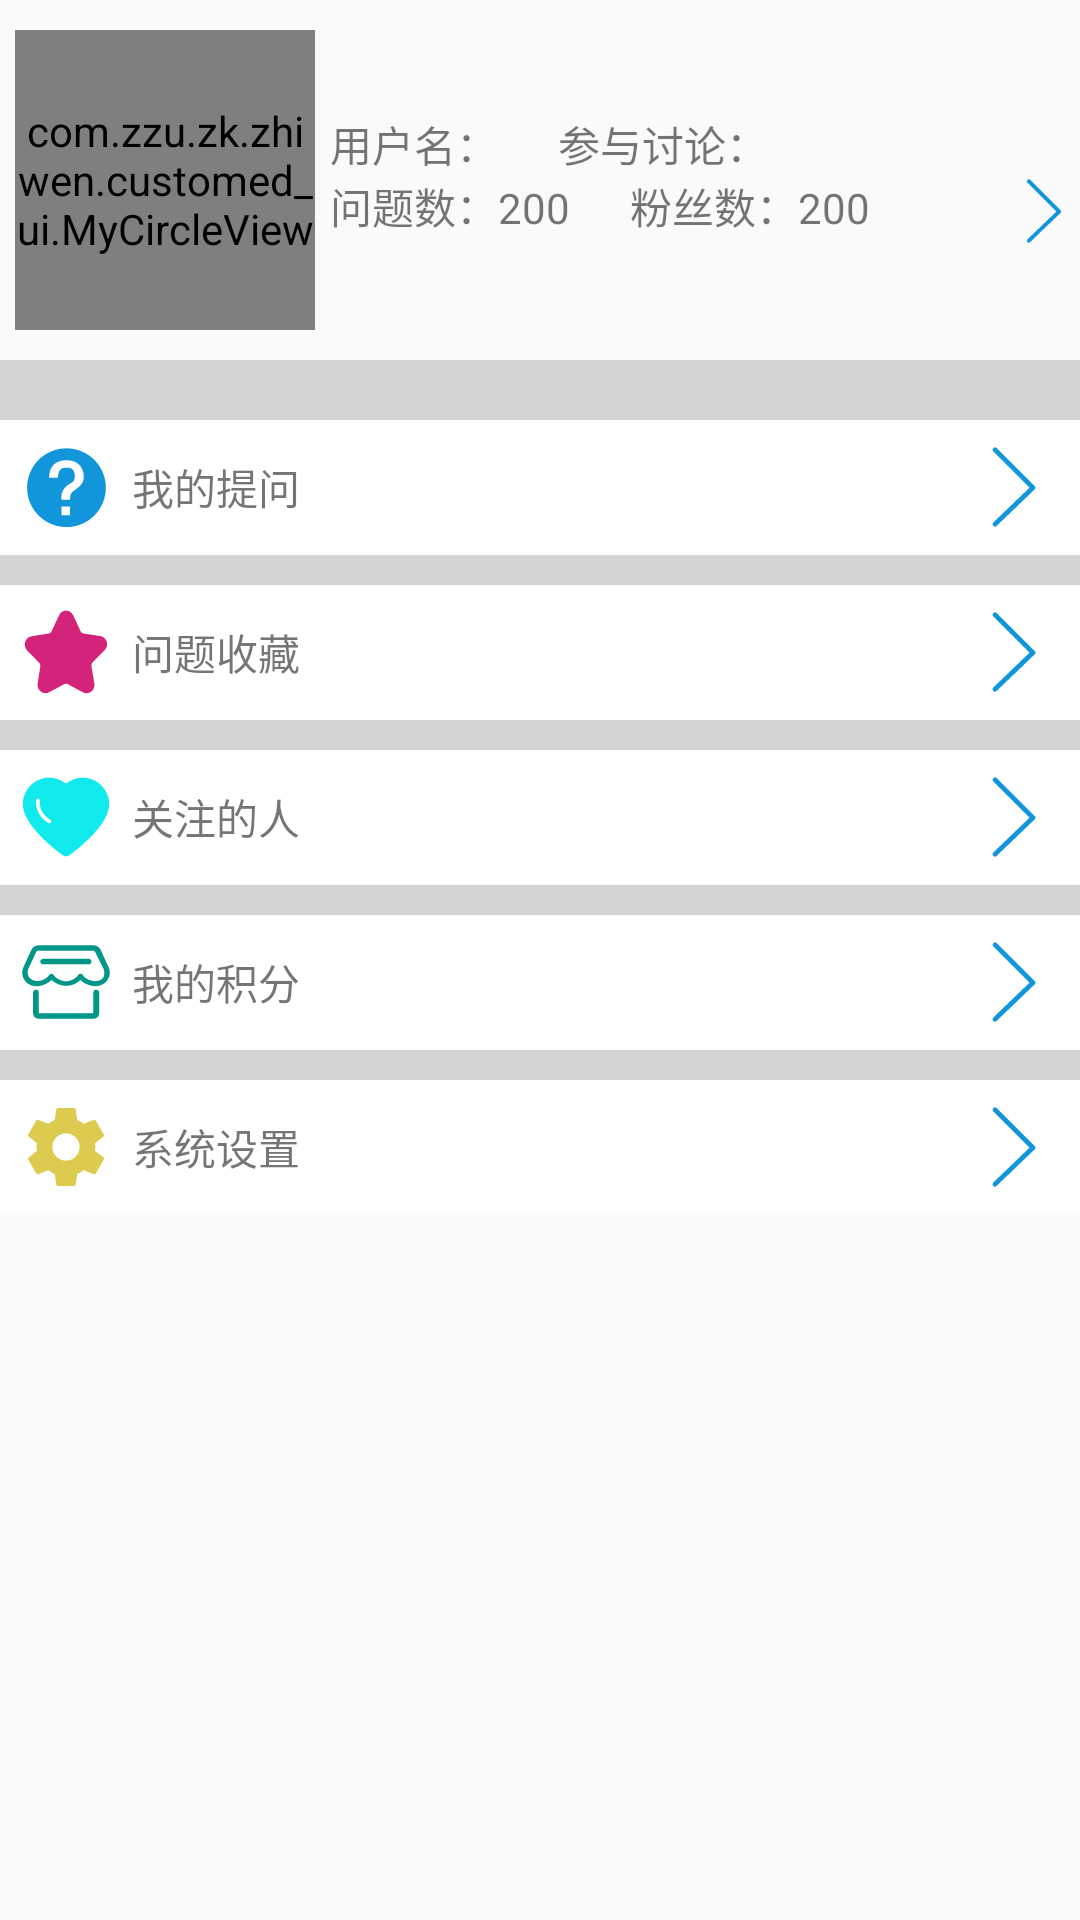

Point at icon controls on the screen. Image size 1080x1920, points as [x,y].
forward: [1043,211], [1014,487], [1014,652], [1014,817], [1014,982], [1014,1147]
heart: [66,817]
settings: [66,1147]
star: [65,652]
